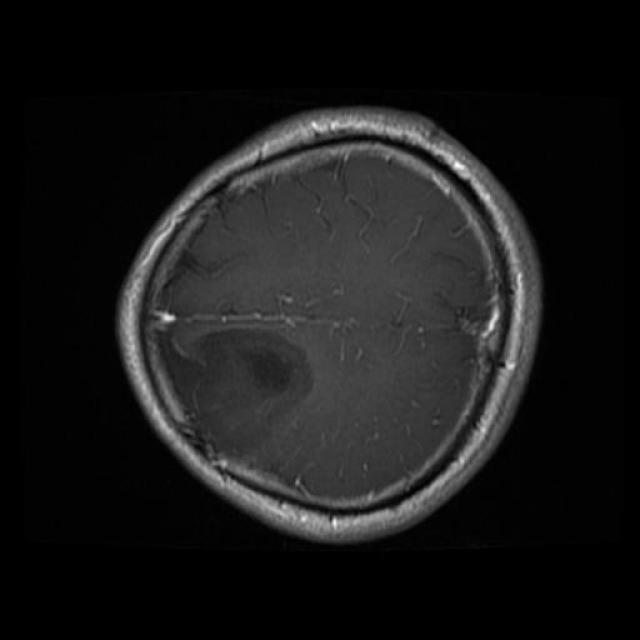Glioma: (165, 328, 313, 463)
